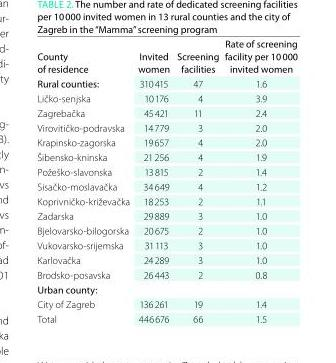table: (36, 37, 296, 324)
table column: (36, 37, 133, 324), (221, 37, 296, 324), (172, 37, 221, 324), (133, 37, 172, 324)
table column header: (36, 37, 296, 75)
table projected row header: (36, 281, 296, 296)
table row: (36, 37, 296, 75), (36, 75, 296, 90), (36, 90, 296, 105), (36, 119, 296, 134), (36, 134, 296, 149), (36, 163, 296, 178), (36, 178, 296, 193), (36, 193, 296, 208), (36, 222, 296, 237), (36, 237, 296, 252), (36, 266, 296, 281), (36, 281, 296, 296), (36, 105, 296, 119), (36, 149, 296, 163), (36, 208, 296, 222), (36, 252, 296, 266), (36, 296, 296, 310), (36, 310, 296, 324)
